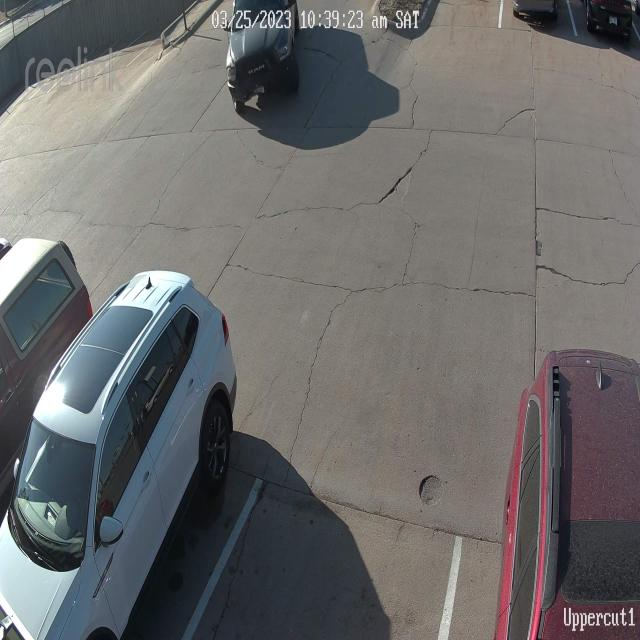Car: (225, 0, 302, 122)
Empty-slot: (185, 433, 476, 640), (406, 0, 508, 60)
Slot-Occupied: (2, 287, 246, 640), (496, 352, 640, 640), (0, 240, 93, 458), (588, 0, 638, 58), (516, 1, 561, 26)
